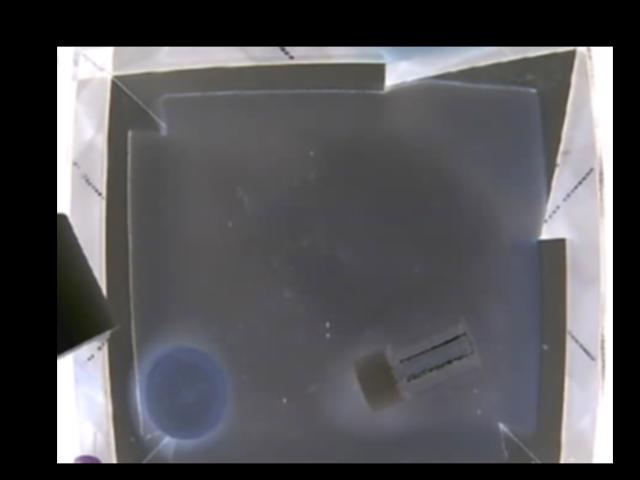Bottle: (355, 319, 479, 406)
Mooli: (138, 347, 232, 442)
